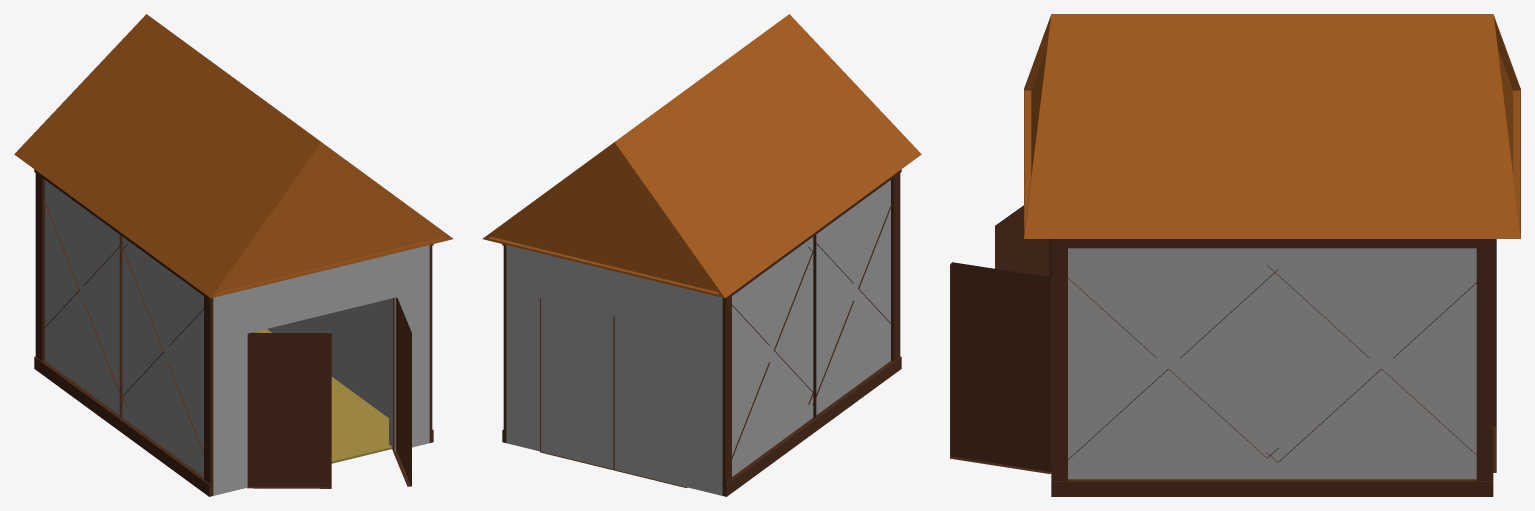
The model's file is Spichlerz.fbx.
The picture shows the model from 3 angles, left to right: view 1: azimuth 30°, elevation 25°; view 2: azimuth 150°, elevation 25°; view 3: azimuth 270°, elevation 25°; orthographic projection. The views are drawn at different scales.
Parts seen in each view (by area): view 1: Cube.002; view 2: Cube.002; view 3: Cube.002.
Part boxes in pixels (box(x1,y1,x2,y2)): Cube.002: box(14, 14, 453, 496); Cube.002: box(482, 14, 921, 496); Cube.002: box(950, 14, 1520, 496).
Size of the model in its own units: 330 by 425 by 532.
